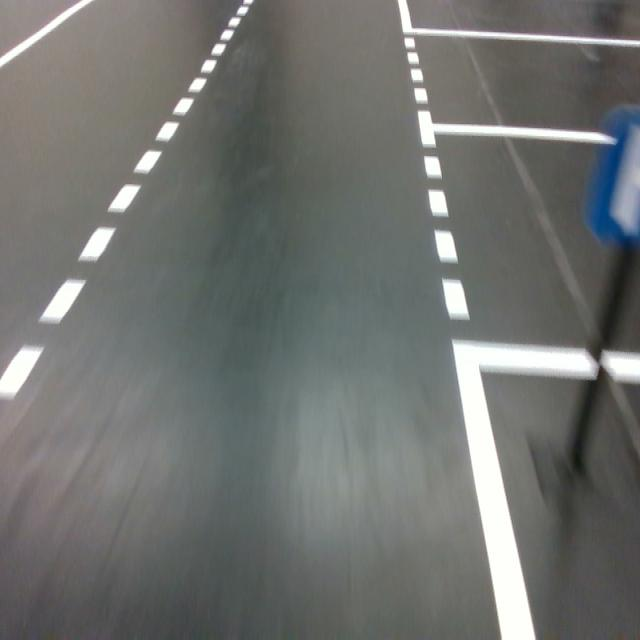parking-sign: (580, 102, 640, 252)
